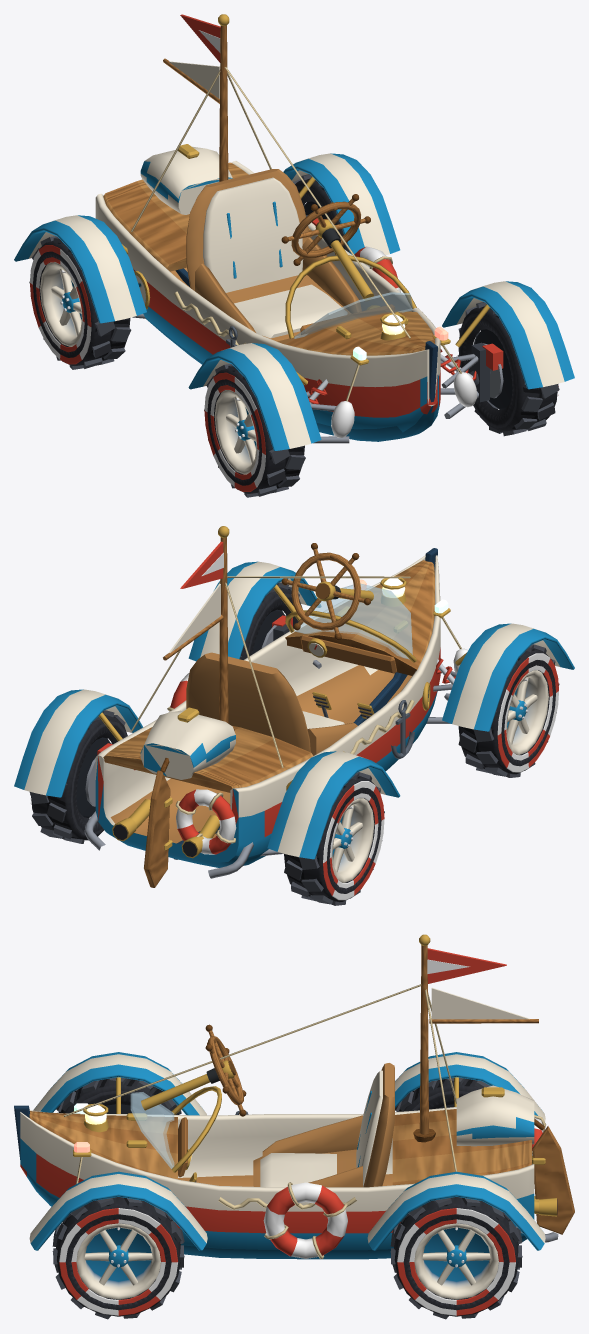
File: mare.glb
3 renders of one model, top to bottom at view 1: azimuth 30°, elevation 25°; view 2: azimuth 150°, elevation 25°; view 3: azimuth 270°, elevation 25°, orthographic. The views are drawn at different scales.
Parts seen in each view (by area): view 1: body_mesh, wheel_rr_mesh, wheel_fr_mesh, wheel_fl_mesh, steering_mesh, wheel_rl_mesh; view 2: body_mesh, wheel_rr_mesh, wheel_fr_mesh, wheel_rl_mesh, steering_mesh, wheel_fl_mesh; view 3: body_mesh, wheel_fl_mesh, wheel_rl_mesh, wheel_fr_mesh, wheel_rr_mesh, steering_mesh.
Boxes of the visible parts, x1,y1,x2,y2 form: body_mesh: [14, 14, 574, 450]; wheel_rr_mesh: [29, 236, 131, 369]; wheel_fr_mesh: [204, 364, 305, 497]; wheel_fl_mesh: [457, 302, 559, 436]; steering_mesh: [281, 194, 370, 265]; wheel_rl_mesh: [293, 174, 349, 252]; body_mesh: [14, 526, 574, 887]; wheel_rr_mesh: [284, 772, 384, 905]; wheel_fr_mesh: [458, 644, 559, 777]; wheel_rl_mesh: [29, 710, 127, 843]; steering_mesh: [281, 543, 370, 640]; wheel_fl_mesh: [240, 582, 302, 659]; body_mesh: [14, 934, 574, 1259]; wheel_fl_mesh: [52, 1197, 184, 1319]; wheel_rl_mesh: [390, 1197, 522, 1319]; wheel_fr_mesh: [56, 1077, 181, 1114]; wheel_rr_mesh: [395, 1077, 490, 1111]; steering_mesh: [205, 1024, 246, 1116].
Size of the model in its own units: 1.47 by 1.53 by 2.46.
15 materials, 3 textured.
